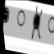correct: (1, 5, 12, 28)
no answer: (14, 9, 27, 28), (43, 14, 54, 35)
not correct: (26, 4, 48, 42)
